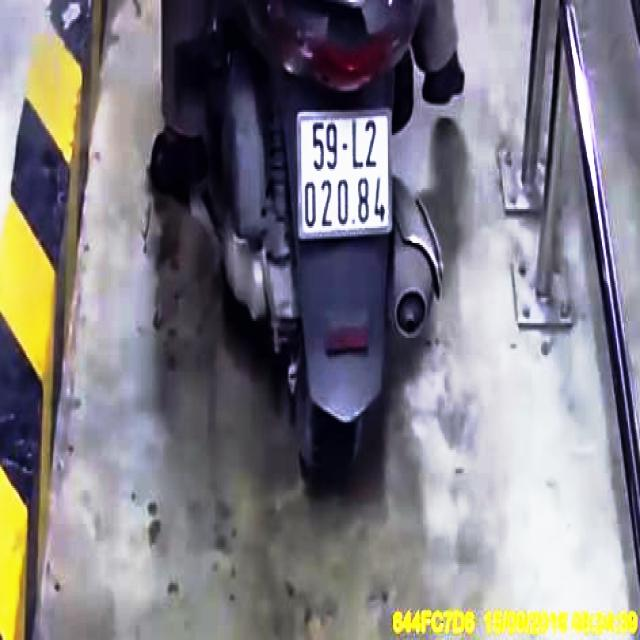license_plate: (299, 116, 392, 238)
